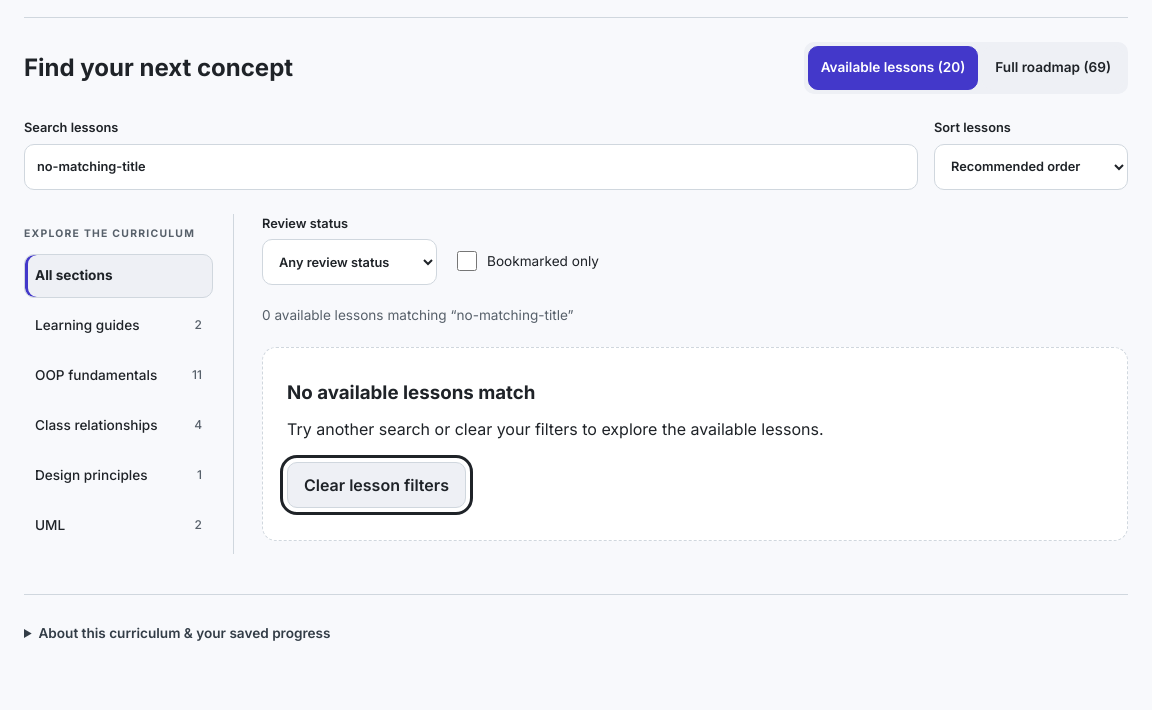
Learning catalog discovery › moves keyboard focus to search when clearing filters removes the clear button
The width and height of the screenshot is (1152, 710).
(page scrolled)
Click the button "Clear lesson filters": click(376, 485) [287,462,466,508]
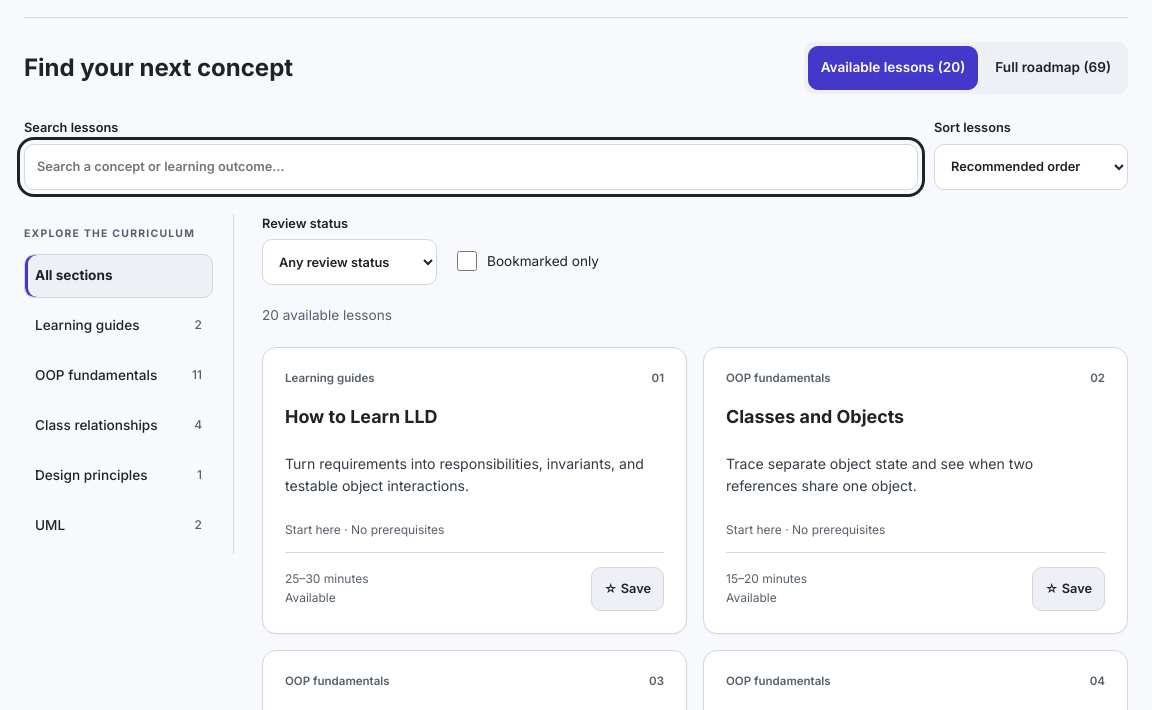
Now the message reads "20 available lessons", box [262,307,392,323]
